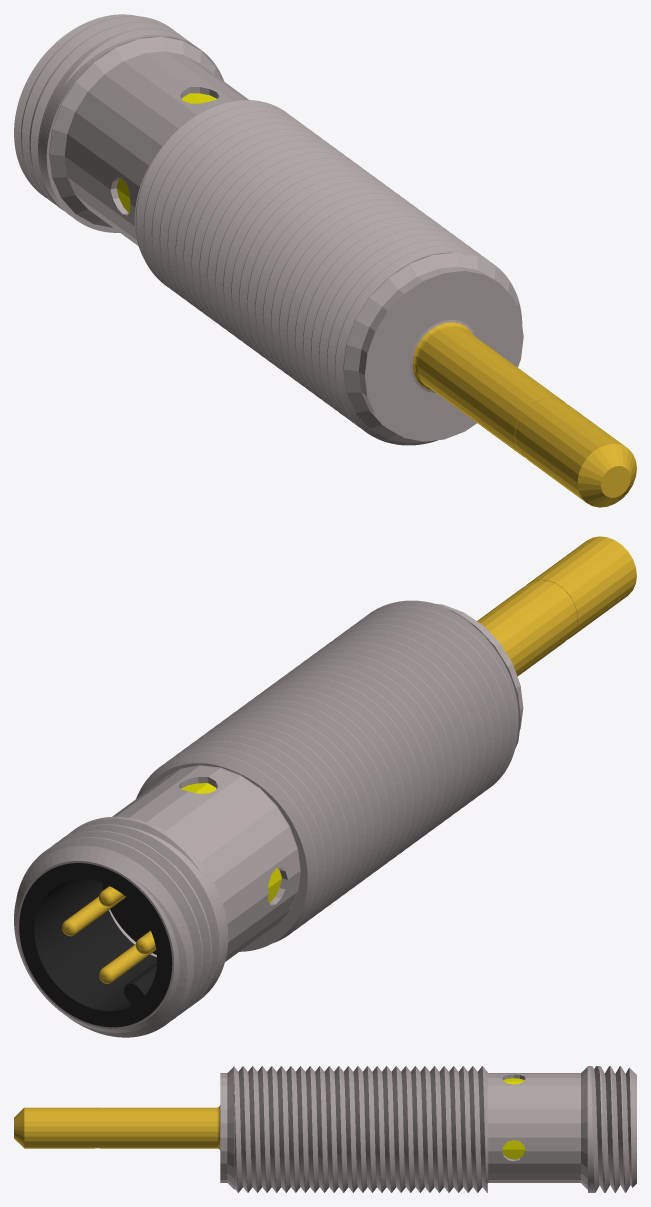
The model's file is nimfe.glb.
The picture shows the model from 3 angles, top to bottom: view 1: azimuth 30°, elevation 25°; view 2: azimuth 150°, elevation 25°; view 3: azimuth 270°, elevation 25°; orthographic projection. The views are drawn at different scales.
Bounding box in the file's own units: 0.0123 × 0.0123 × 0.0604.
